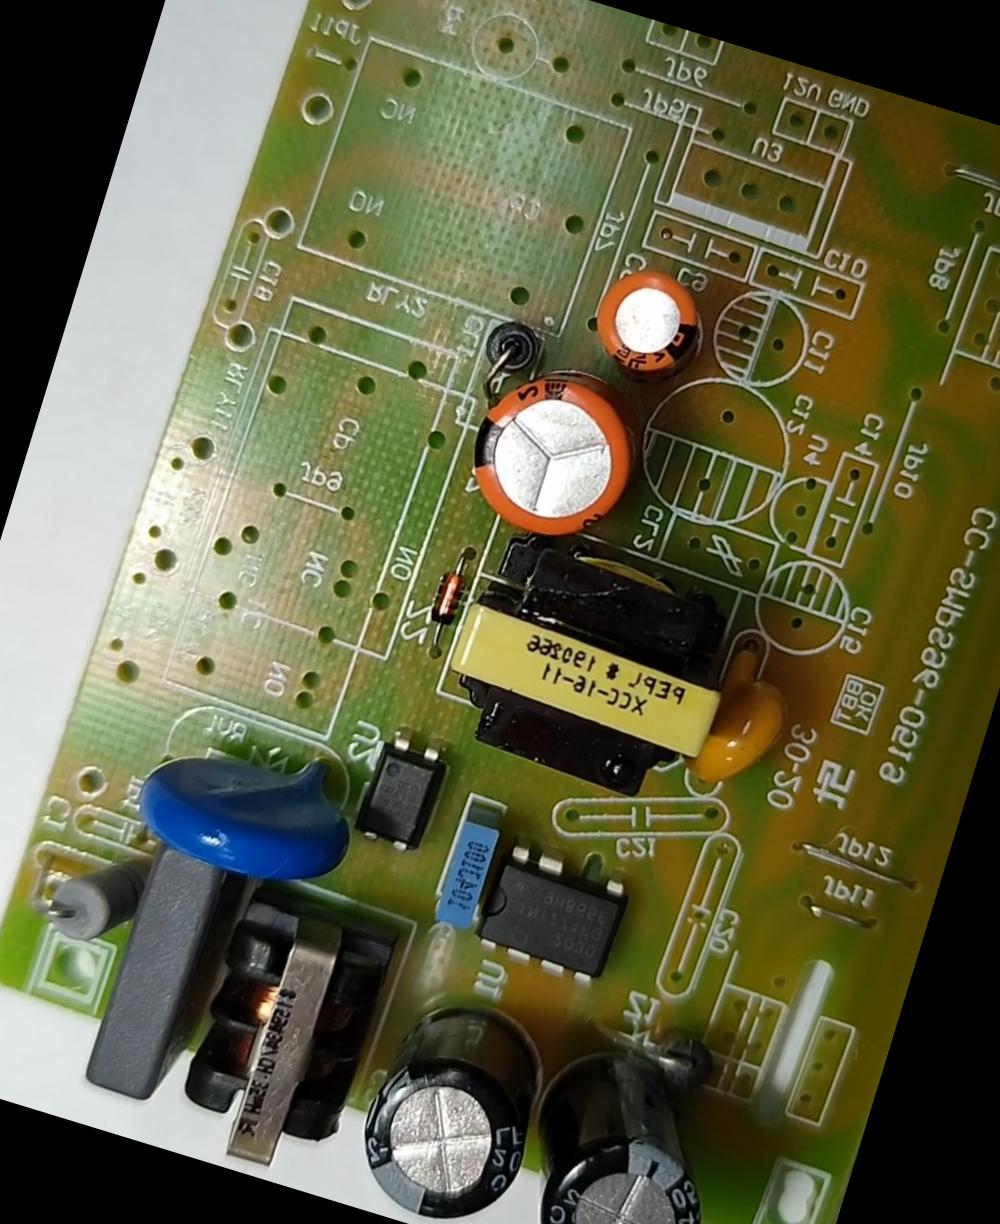Cap1: (452, 352, 653, 559)
Cap2: (580, 253, 715, 389)
Cap3: (339, 977, 564, 1223)
Cap4: (494, 1041, 738, 1223)
MOSFET: (464, 836, 645, 994)
Mov: (123, 699, 372, 902)
Resestor: (32, 835, 148, 957)
Transformer: (422, 521, 753, 810), (160, 871, 404, 1184)
